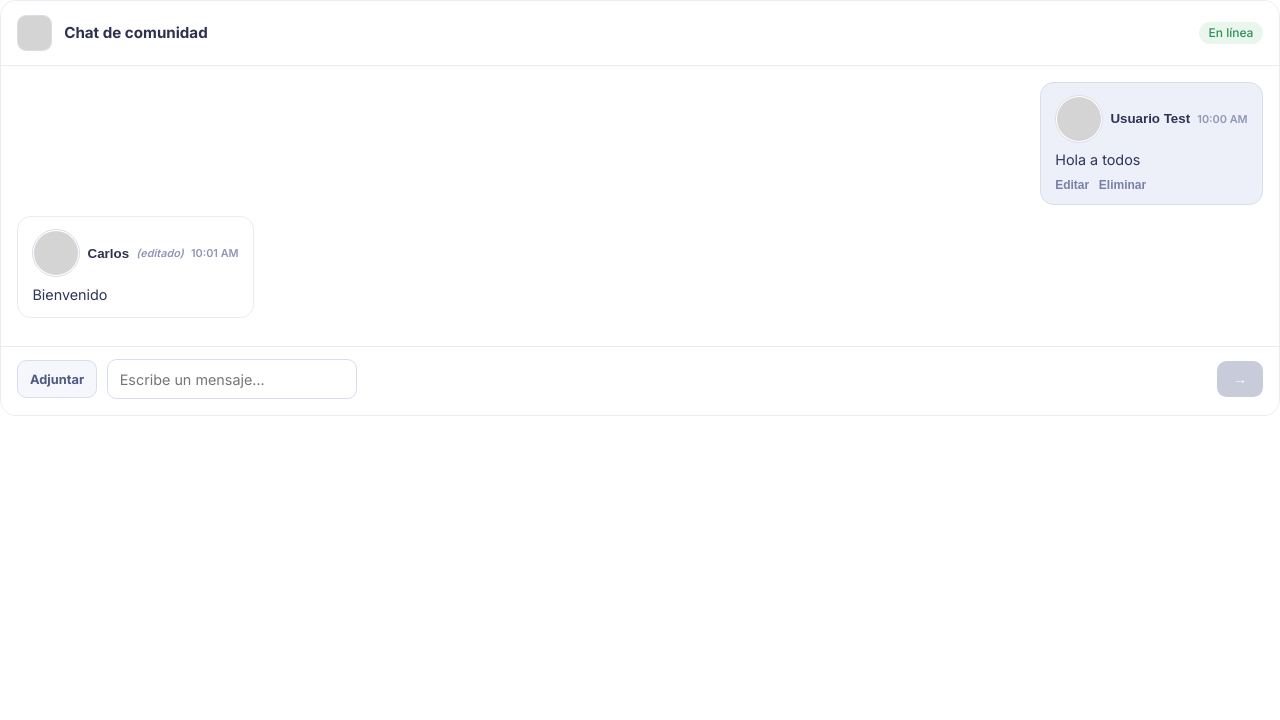
CommunityChat › shows error on edit failure
Expected: the text "Hola a todos" is shown, [1055,151,1140,168]
Click the button "Editar".
click(1072, 185)  # box [1055,178,1089,192]
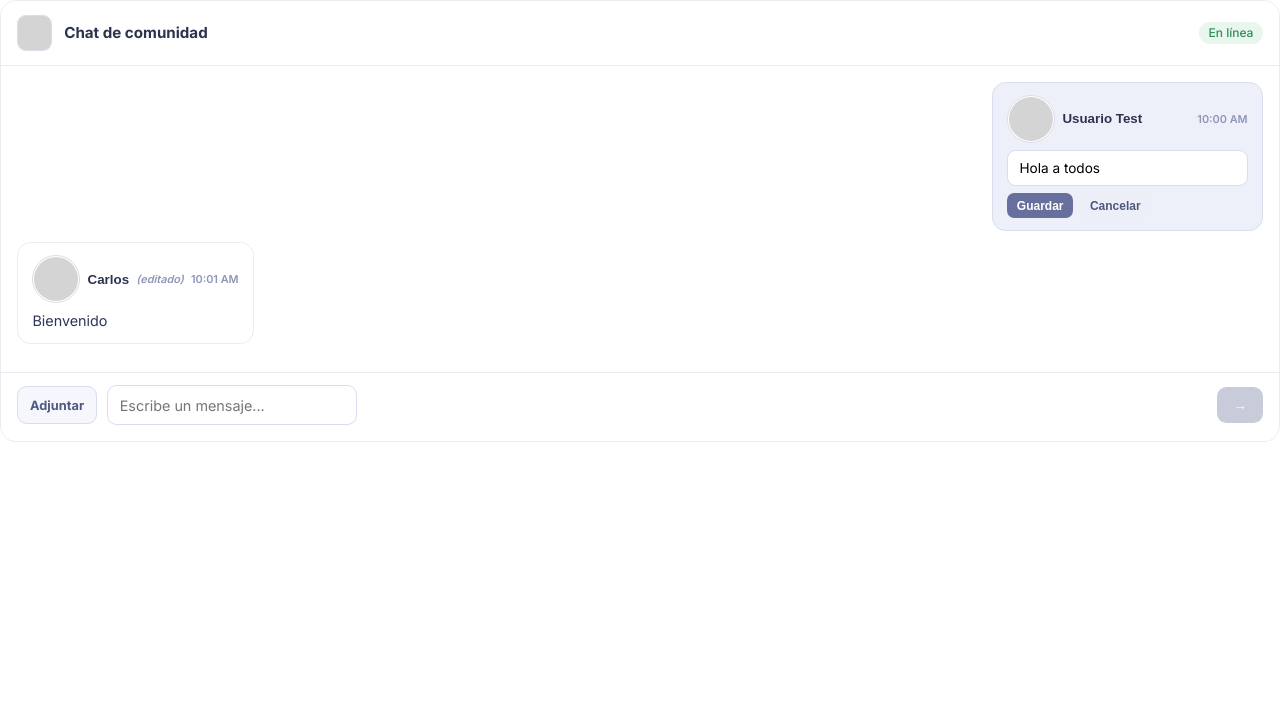
Replace the text in the field showing "Hola a todos" with "x" at (1127, 168), box [1007,150,1248,186]
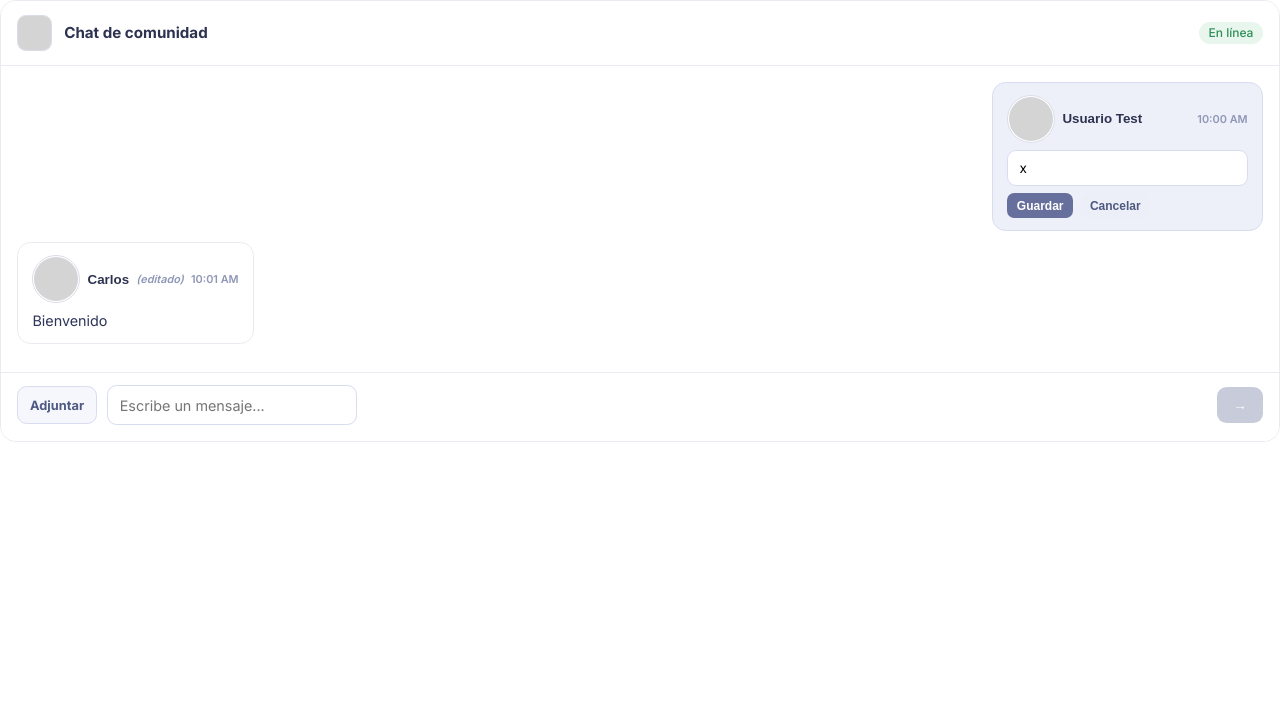
Click the button "Guardar".
click(1040, 206)  # box [1007,193,1073,218]
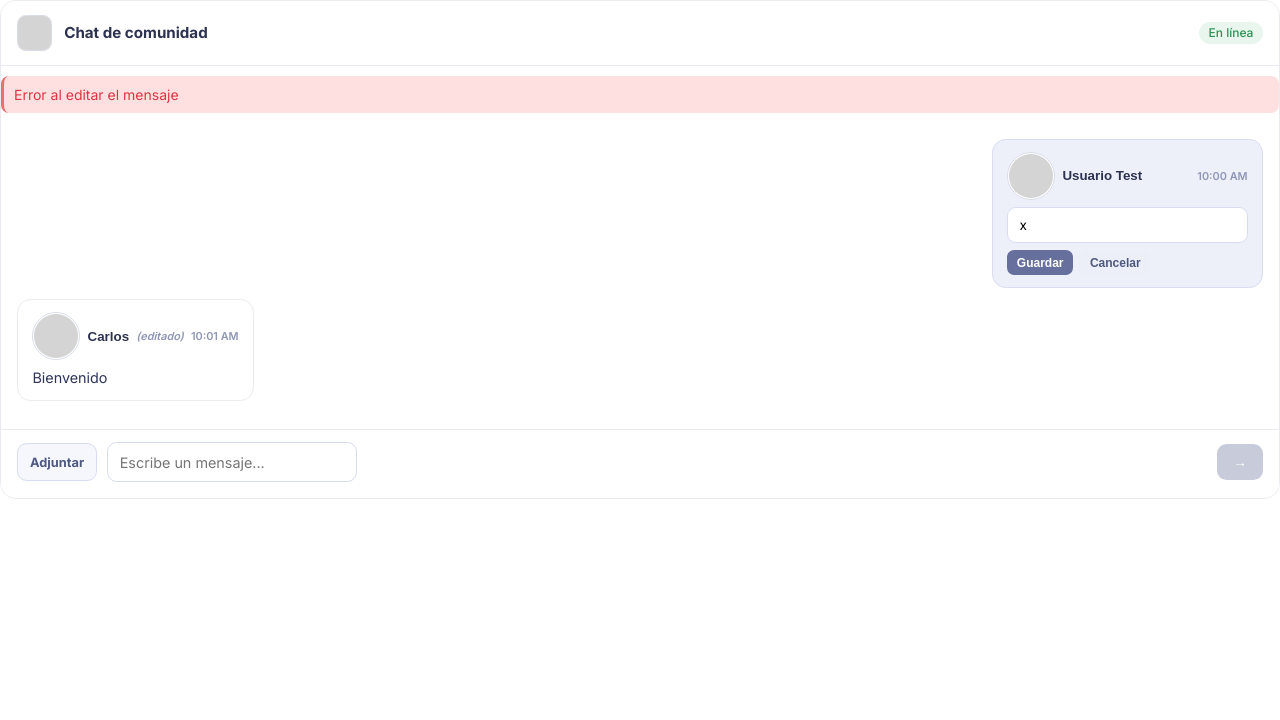
Expected: the text "Error al editar el mensaje" is shown, [1,76,1279,113]
